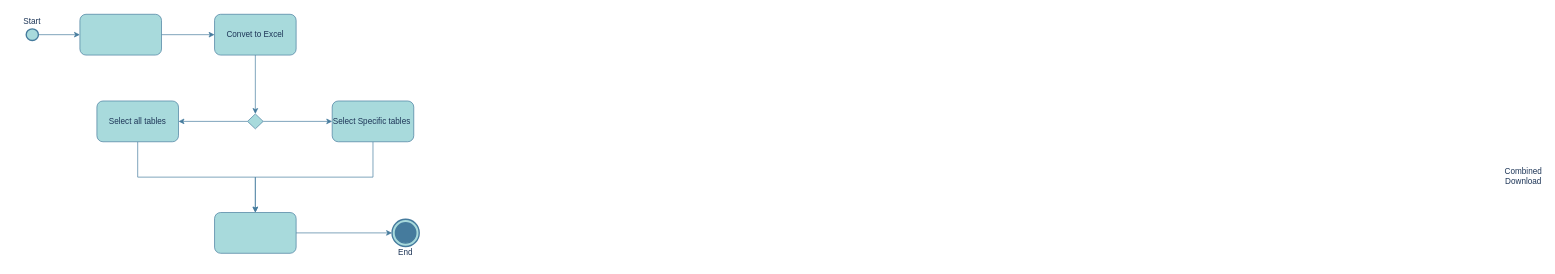
This 1555x274 diagram has some shape labels left out. The centre of each missing label's shape, as x and y in pixels:
"Download file" goes at point 255,232.
"Upload PDF" goes at point 120,34.
